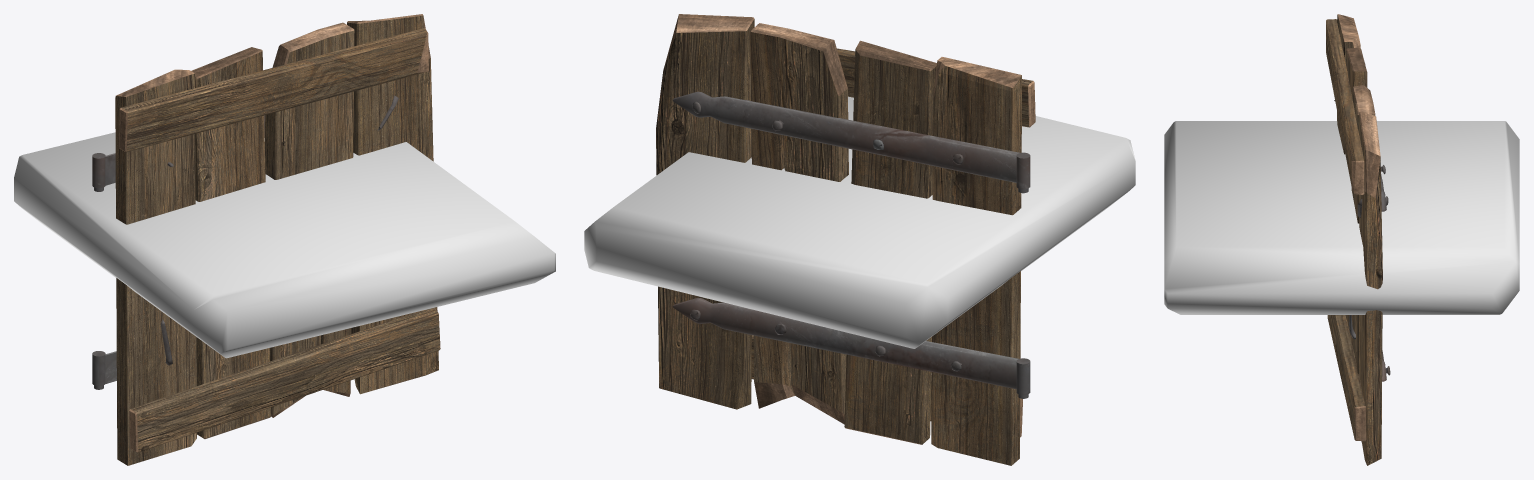
The model's file is SM_Wall_Window_C_P3_.fbx.
3 renders of one model, left to right at view 1: azimuth 30°, elevation 25°; view 2: azimuth 150°, elevation 25°; view 3: azimuth 270°, elevation 25°, orthographic. The views are drawn at different scales.
Parts seen in each view (by area): view 1: SM_Wall_Window_C_P3_, SM_Wall_Window_C_P3__ConvexHulls; view 2: SM_Wall_Window_C_P3_, SM_Wall_Window_C_P3__ConvexHulls; view 3: SM_Wall_Window_C_P3__ConvexHulls, SM_Wall_Window_C_P3_.
Boxes of the visible parts, x1,y1,x2,y2 form: SM_Wall_Window_C_P3_: (92,14,440,465); SM_Wall_Window_C_P3__ConvexHulls: (14,132,555,358); SM_Wall_Window_C_P3_: (656,14,1035,465); SM_Wall_Window_C_P3__ConvexHulls: (584,96,1135,348); SM_Wall_Window_C_P3__ConvexHulls: (1164,121,1519,314); SM_Wall_Window_C_P3_: (1326,14,1390,465).
Size of the model in its own units: 0.906 by 0.9235 by 0.9255.
